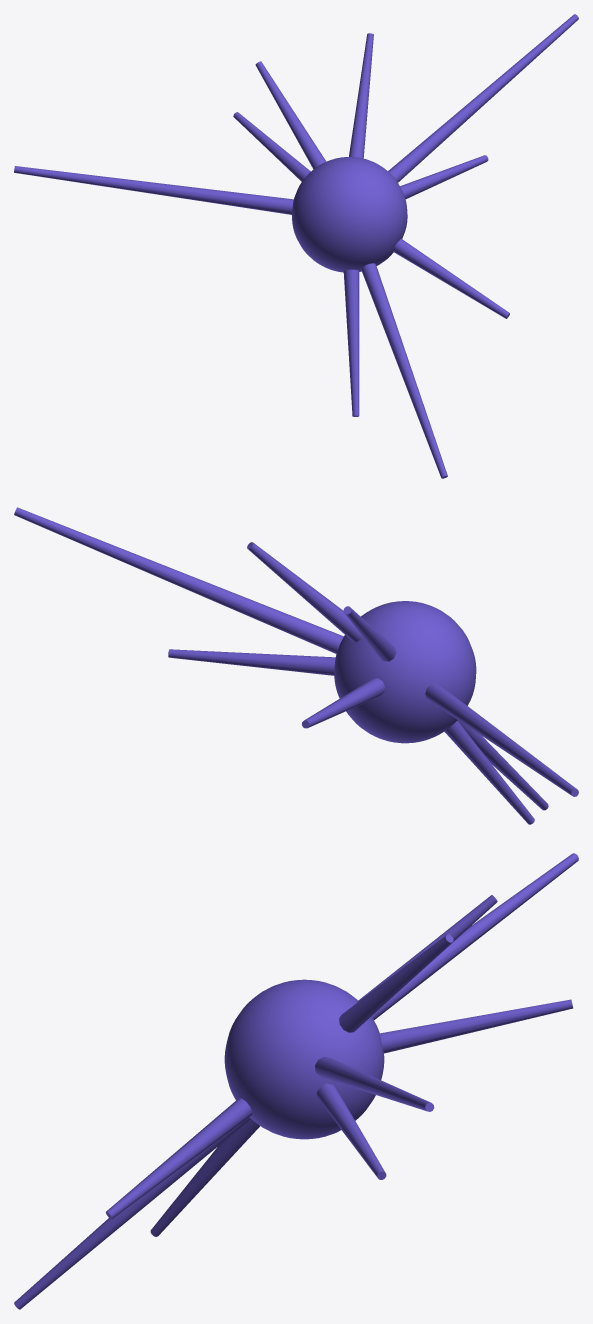
The model's file is neuron.glb.
The picture shows the model from 3 angles, top to bottom: view 1: azimuth 30°, elevation 25°; view 2: azimuth 150°, elevation 25°; view 3: azimuth 270°, elevation 25°; orthographic projection. The views are drawn at different scales.
Visible parts, largest first — view 1: Soma, Dendrite_0, Dendrite_2, Dendrite_1, Dendrite_7, Dendrite_4, Dendrite_3, Dendrite_8, Dendrite_6, Dendrite_5; view 2: Soma, Dendrite_2, Dendrite_0, Dendrite_6, Dendrite_3, Dendrite_7, Dendrite_5, Dendrite_1, Dendrite_8; view 3: Soma, Dendrite_5, Dendrite_0, Dendrite_1, Dendrite_4, Dendrite_3, Dendrite_7, Dendrite_2, Dendrite_6, Dendrite_8.
Part boxes in pixels (box(x1,y1,x2,y2)): Soma: box(291, 157, 407, 272); Dendrite_0: box(14, 166, 293, 214); Dendrite_2: box(388, 14, 578, 182); Dendrite_1: box(361, 263, 447, 478); Dendrite_7: box(343, 269, 359, 416); Dendrite_4: box(393, 239, 509, 318); Dendrite_3: box(349, 33, 373, 158); Dendrite_8: box(255, 61, 326, 169); Dendrite_6: box(400, 155, 488, 199); Dendrite_5: box(233, 112, 310, 181); Soma: box(334, 601, 476, 743); Dendrite_2: box(14, 507, 343, 653); Dendrite_0: box(425, 683, 578, 796); Dendrite_6: box(168, 649, 335, 675); Dendrite_3: box(247, 542, 362, 641); Dendrite_7: box(444, 721, 534, 824); Dendrite_5: box(302, 678, 384, 728); Dendrite_1: box(457, 720, 548, 810); Dendrite_8: box(343, 606, 396, 661); Soma: box(224, 979, 384, 1139); Dendrite_5: box(379, 999, 573, 1053); Dendrite_0: box(371, 853, 578, 1019); Dendrite_1: box(14, 1117, 250, 1309); Dendrite_4: box(106, 1098, 252, 1219); Dendrite_3: box(339, 934, 453, 1032); Dendrite_7: box(150, 1119, 259, 1236); Dendrite_2: box(315, 1056, 434, 1111); Dendrite_6: box(317, 1083, 386, 1179); Dendrite_8: box(357, 895, 497, 1001).
Size of the model in its own units: 5.09 by 2.96 by 3.54.
